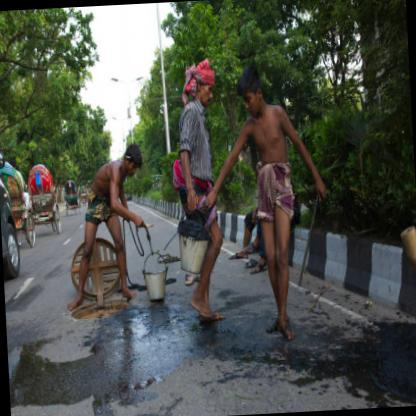manholes: (56, 219, 138, 343)
